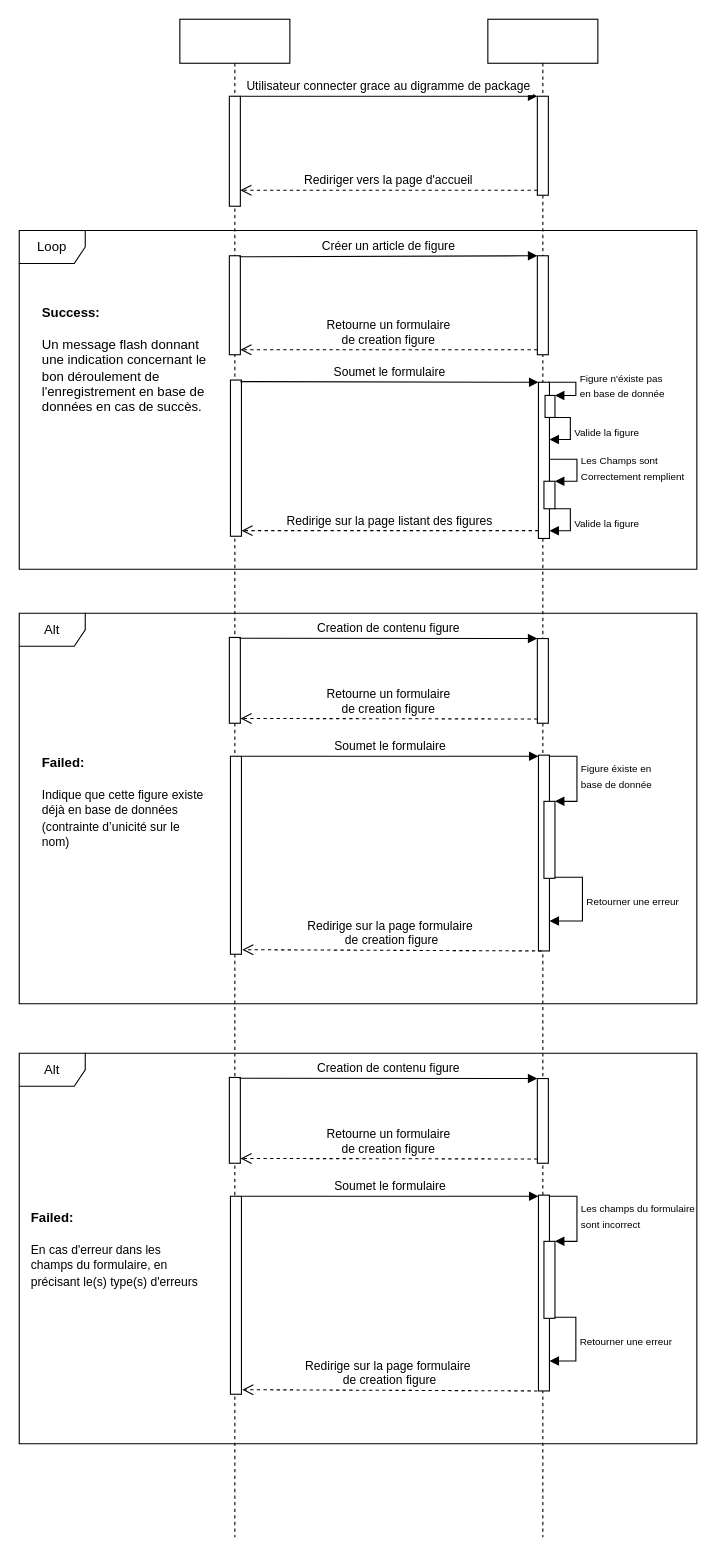
The diagram is 716 pixels wide and 1557 high, and some of its shapes have lost their labels. The shapes that lost their labels are listed below. From the top down, each one's centre as x and y in pixels, then its label:
point 234,777: User
point 542,777: System
